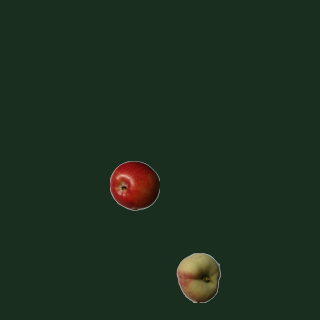Apple Braeburn: (109, 160, 159, 210)
Peach Flat: (173, 252, 223, 302)
